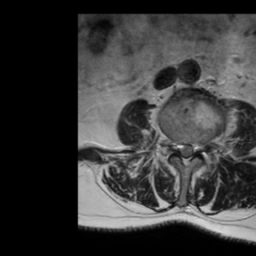CCS_normal: (182, 136, 189, 168)
LFS_normal: (197, 135, 205, 160)
LLS_stenosis: (189, 137, 197, 163)
RFS_normal: (168, 131, 176, 160)
RLS_stenosis: (176, 133, 182, 165)
